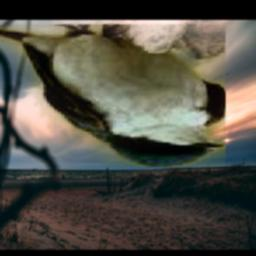Swallow: (0, 25, 227, 168)
